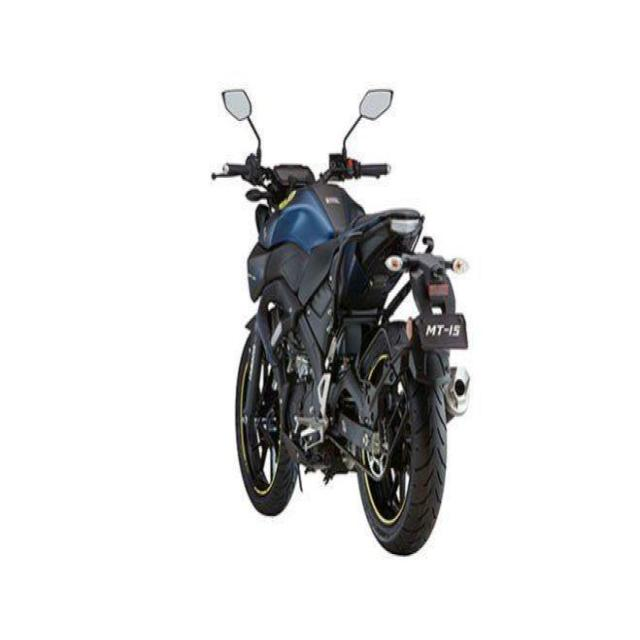motorcycle: (222, 94, 469, 556)
